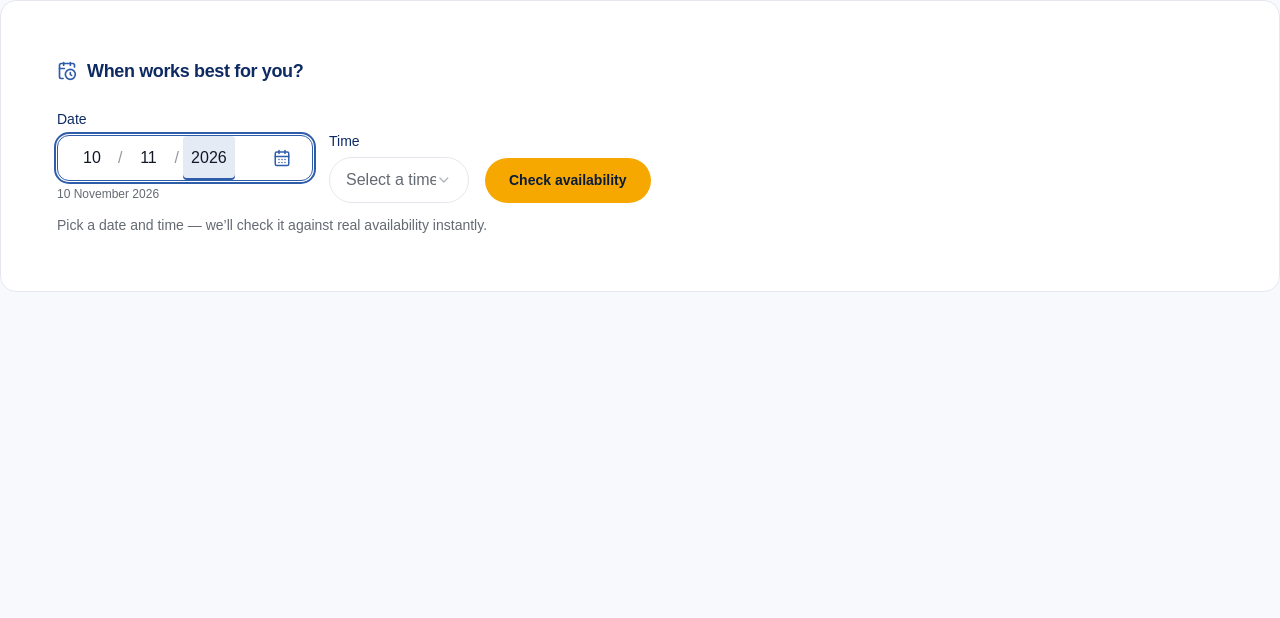
Test: Booking — 422/429 codes show localized copy, not the backend English › duration_too_long
This screenshot has width=1280, height=618.
Step 1. Click the dropdown → (399, 180), box [329, 157, 469, 203]
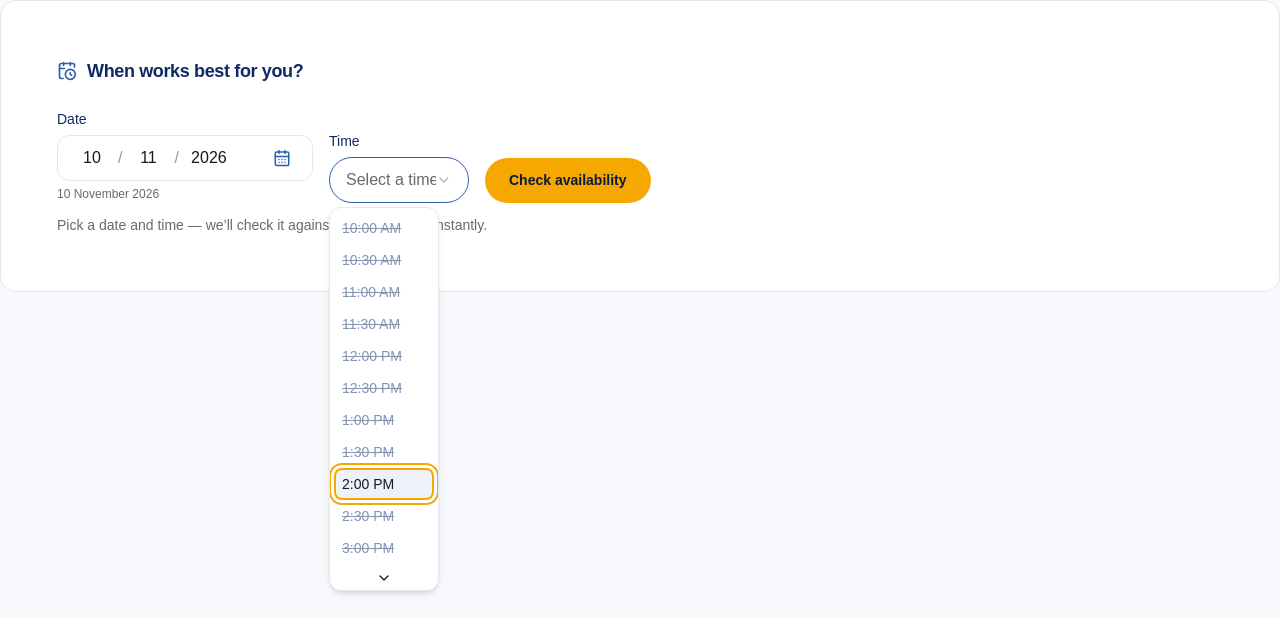
Step 2. Click the option "2:00 PM" → (384, 484), box [334, 468, 434, 500]
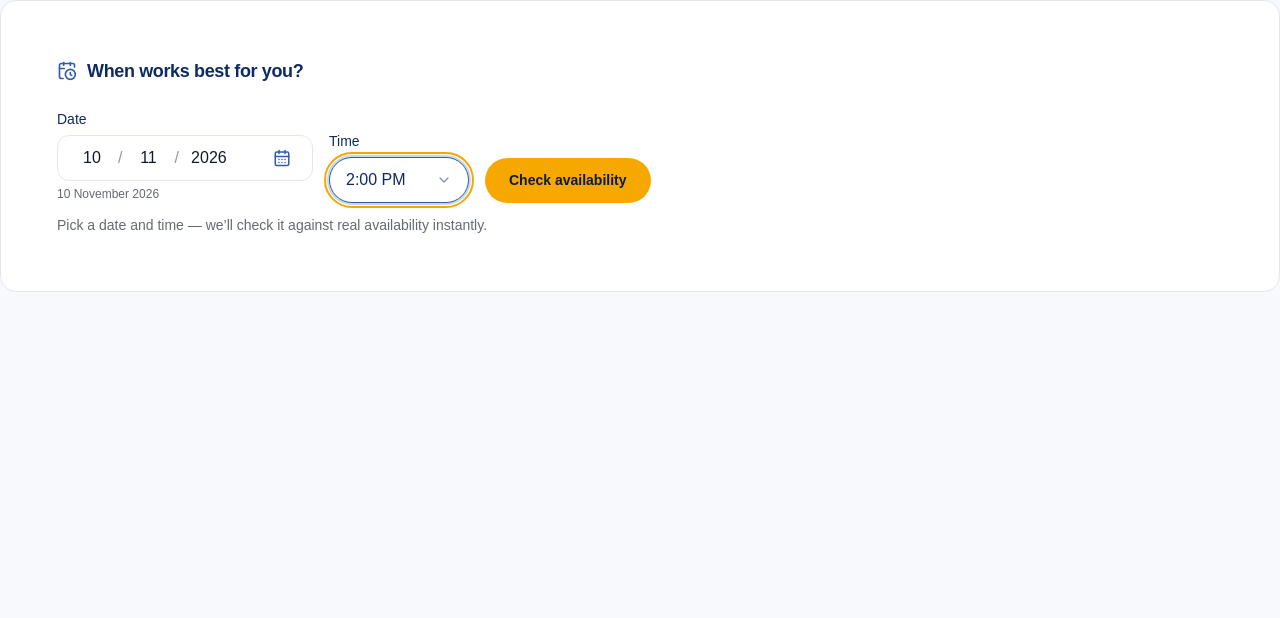
Step 3. Click the button "Check availability" → (568, 180), box [485, 158, 650, 203]
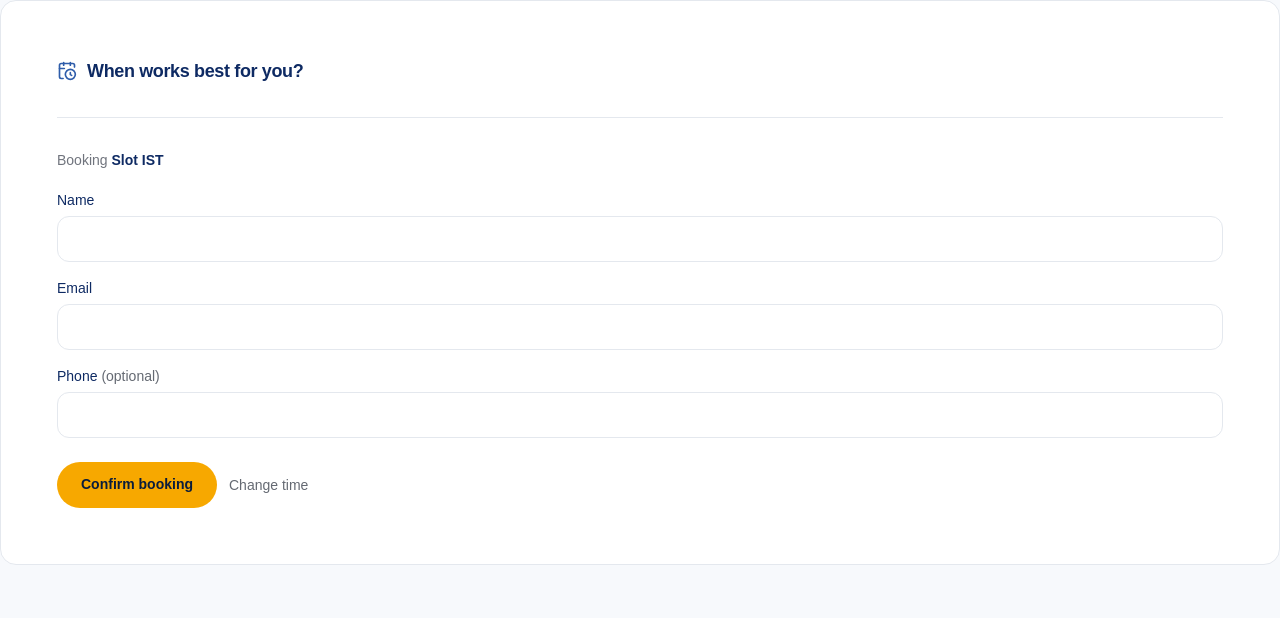
Step 4. Type "Asha Roy" into the field labelled "Name" → (640, 239), box [57, 216, 1223, 262]
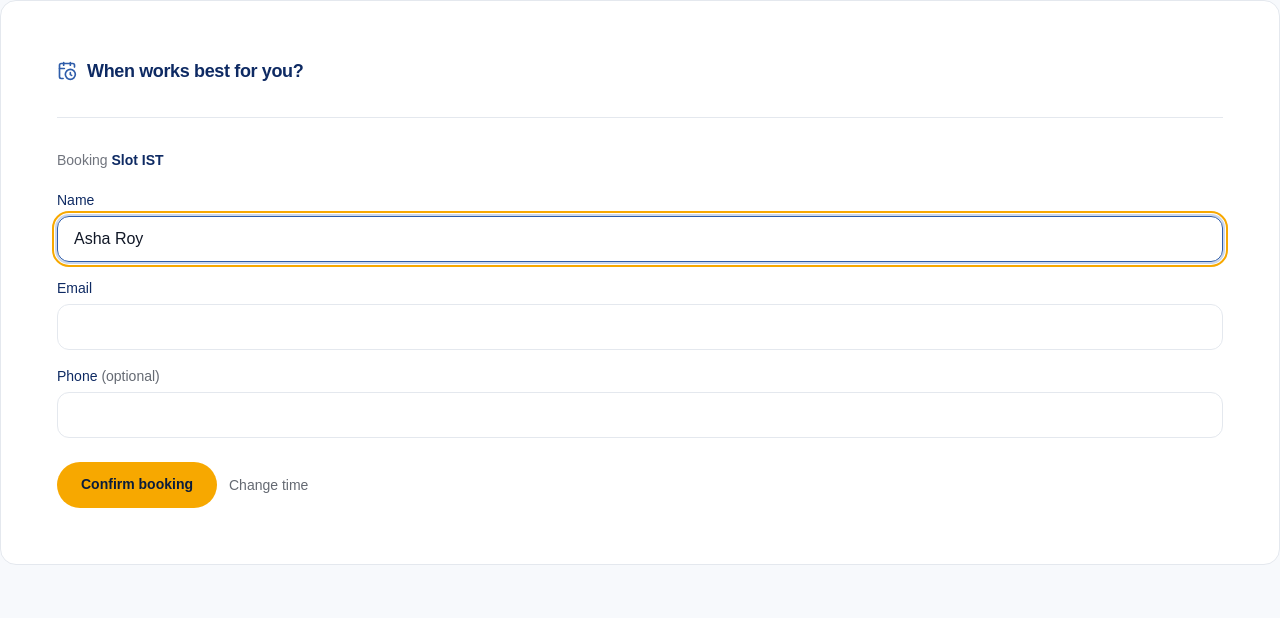
Step 5. Type "asha@example.com" into the field labelled "Email" → (640, 327), box [57, 304, 1223, 350]
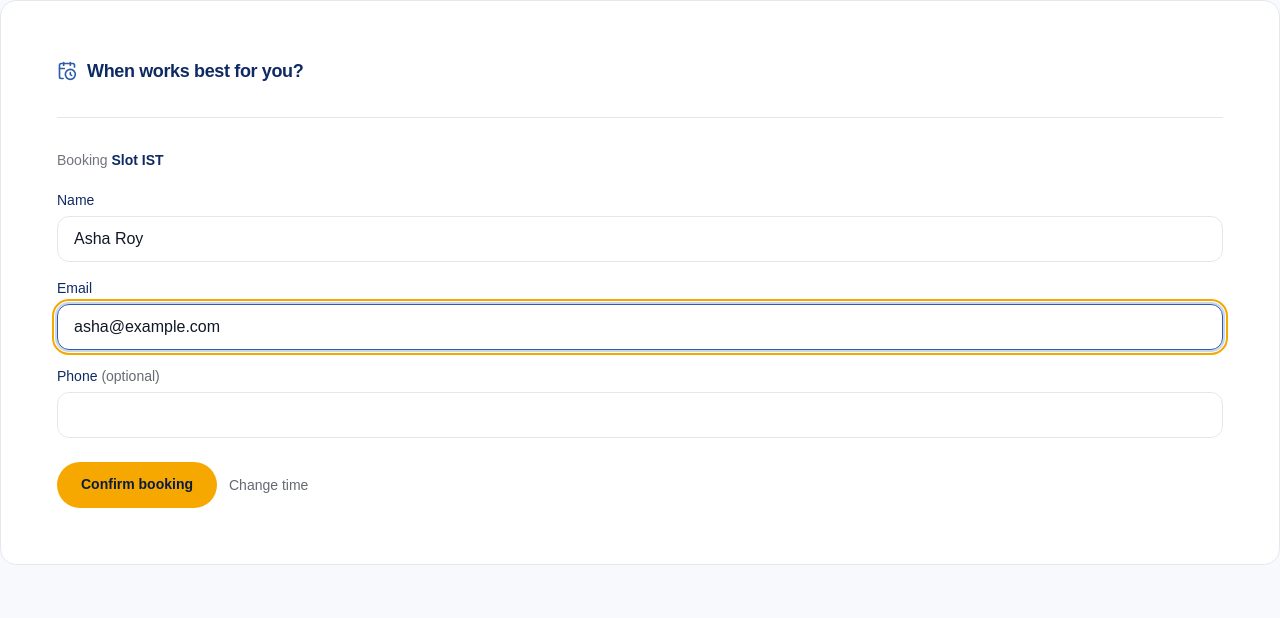
Step 6. Click the button "Confirm booking" → (137, 485), box [57, 462, 217, 508]
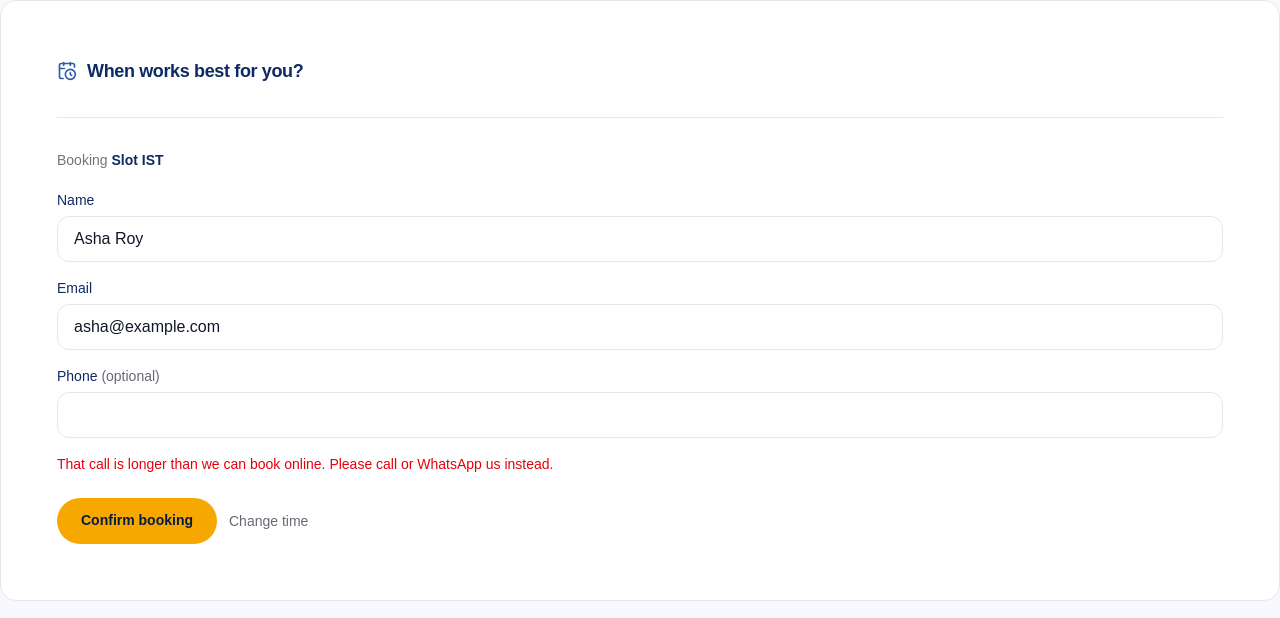
Now the text "That call is longer than we can book online. Please call or WhatsApp us instead." is shown, box [57, 456, 554, 472]
